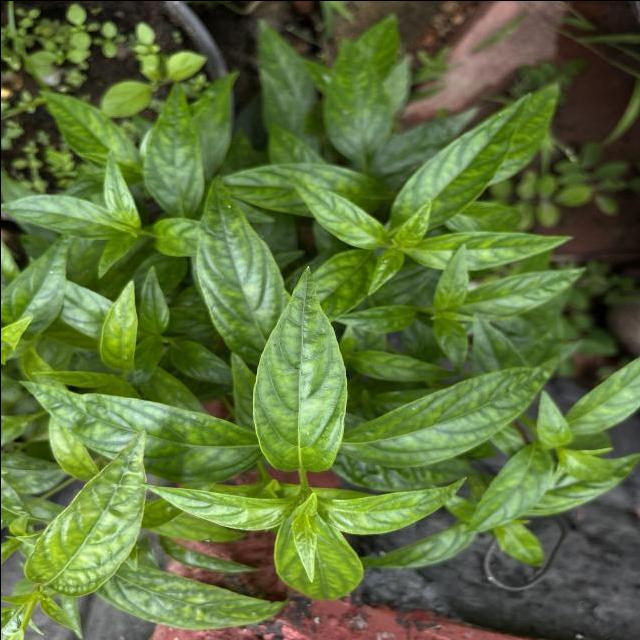Andrographis paniculata: (10, 378, 248, 481), (335, 363, 555, 472), (20, 426, 154, 597), (245, 264, 352, 476), (391, 88, 534, 239), (191, 174, 268, 369), (95, 564, 282, 630), (314, 473, 466, 537), (285, 167, 394, 252), (320, 36, 390, 166), (140, 82, 208, 215), (35, 86, 138, 172), (460, 444, 554, 538), (270, 514, 366, 602), (138, 479, 292, 533), (413, 225, 576, 273), (468, 264, 588, 324), (0, 198, 122, 241), (95, 282, 141, 371)
